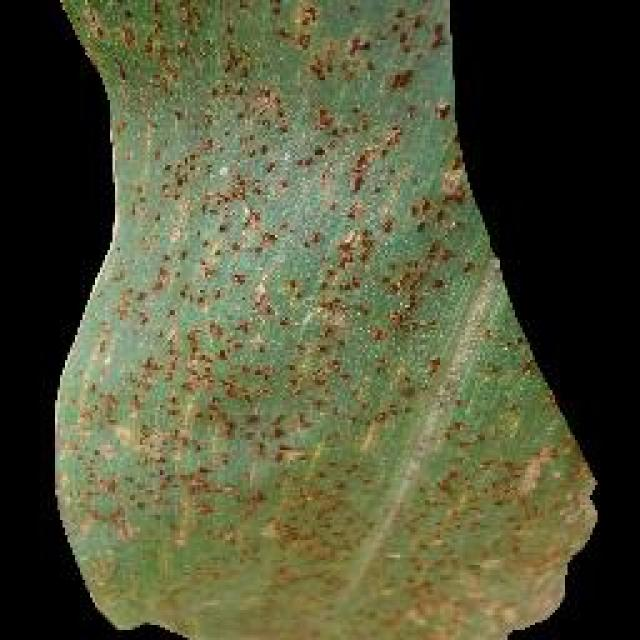Corn Common Rust: (140, 28, 545, 535)
